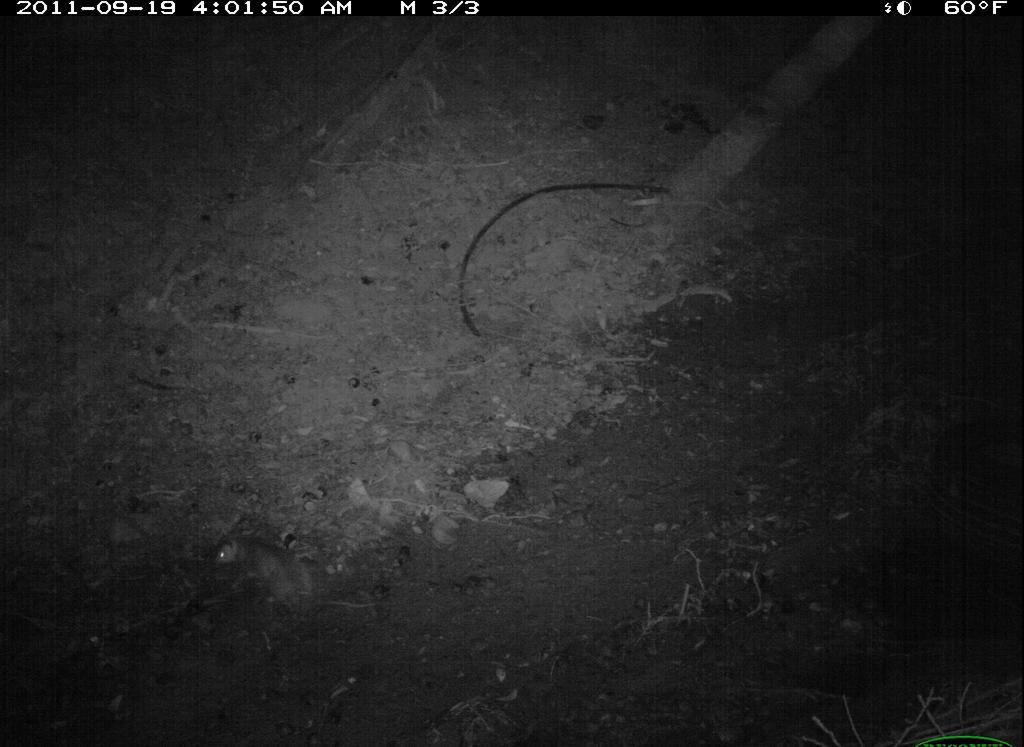opossum: (207, 533, 390, 623)
